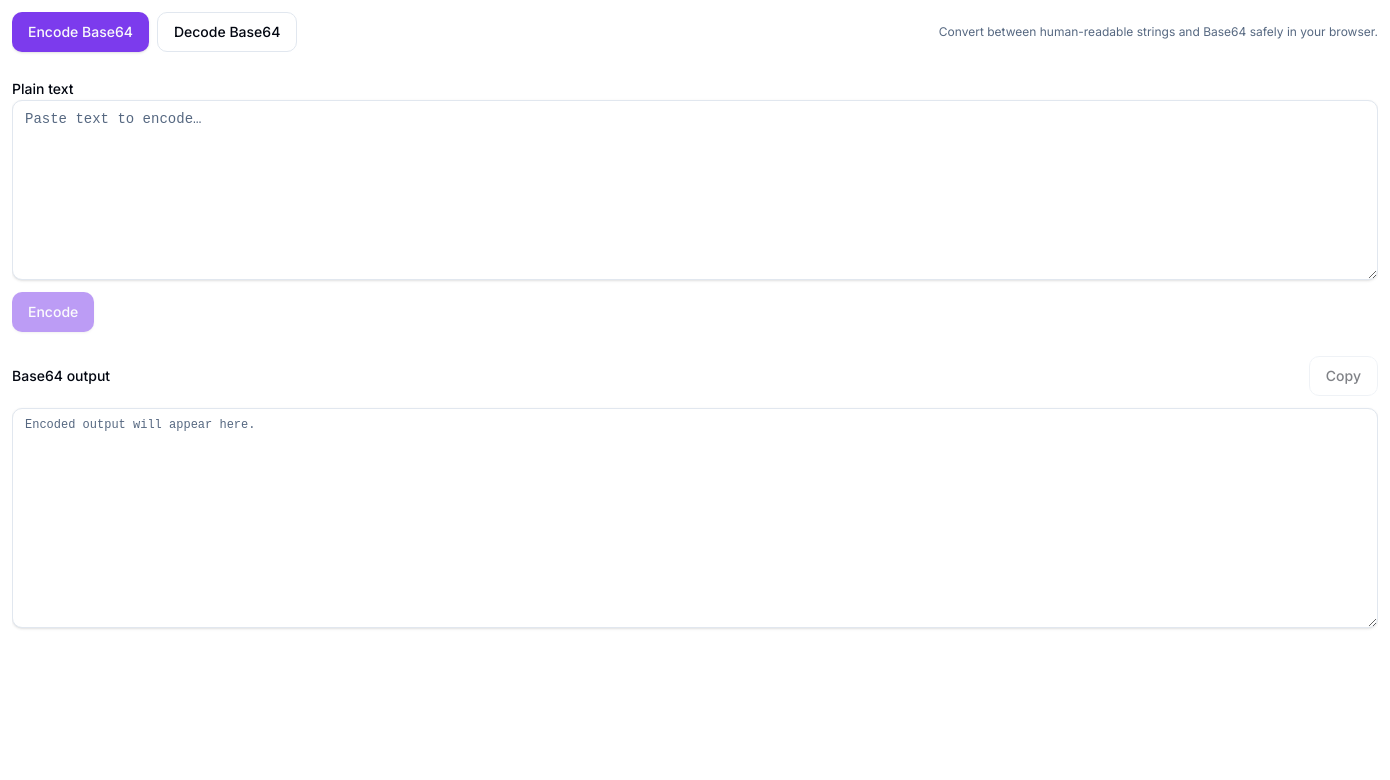
Test: Base64Utility › decodes base64 to plain text
Step 1. Click the button "Decode Base64" → (227, 32), box [157,12,297,52]
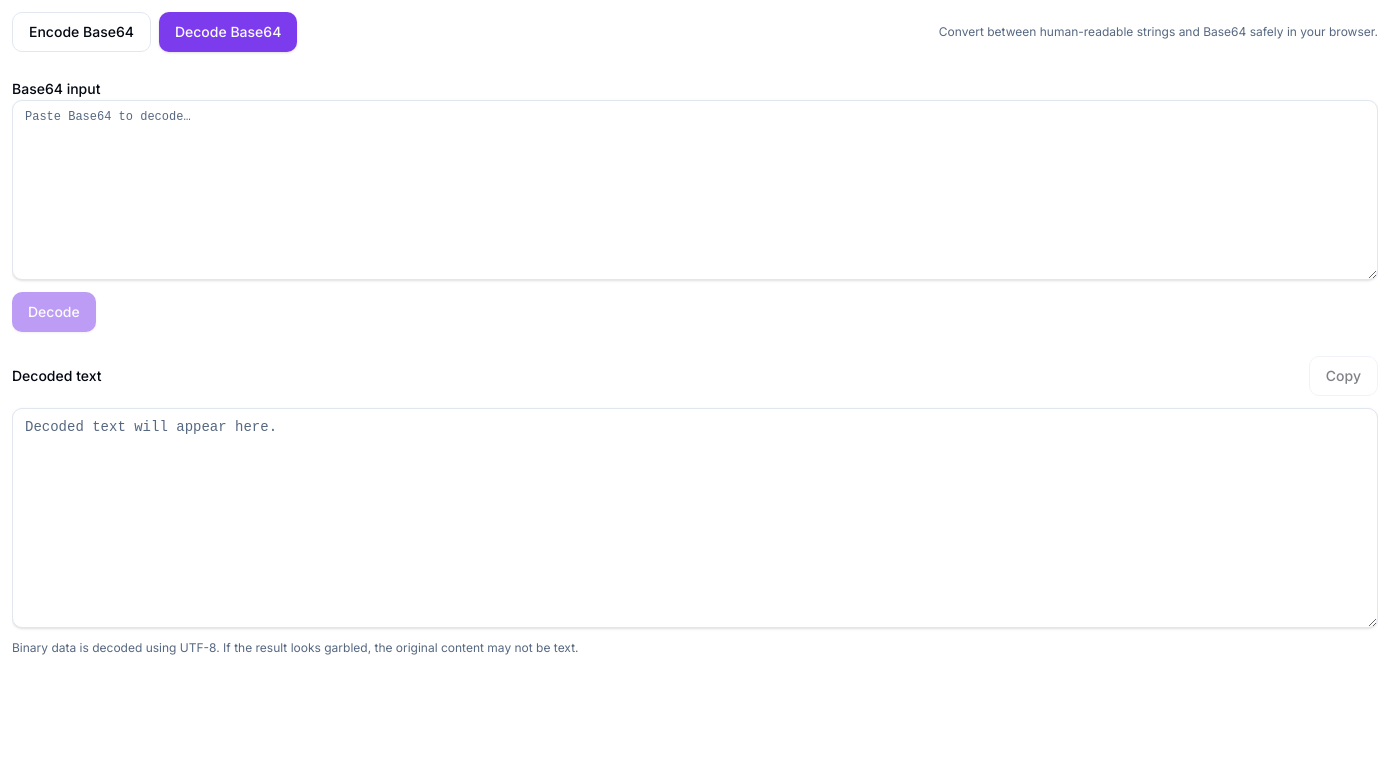
Step 2. Type "aGVsbG8=" into the text box labelled "Base64 input" → (695, 190), box [12,100,1378,280]
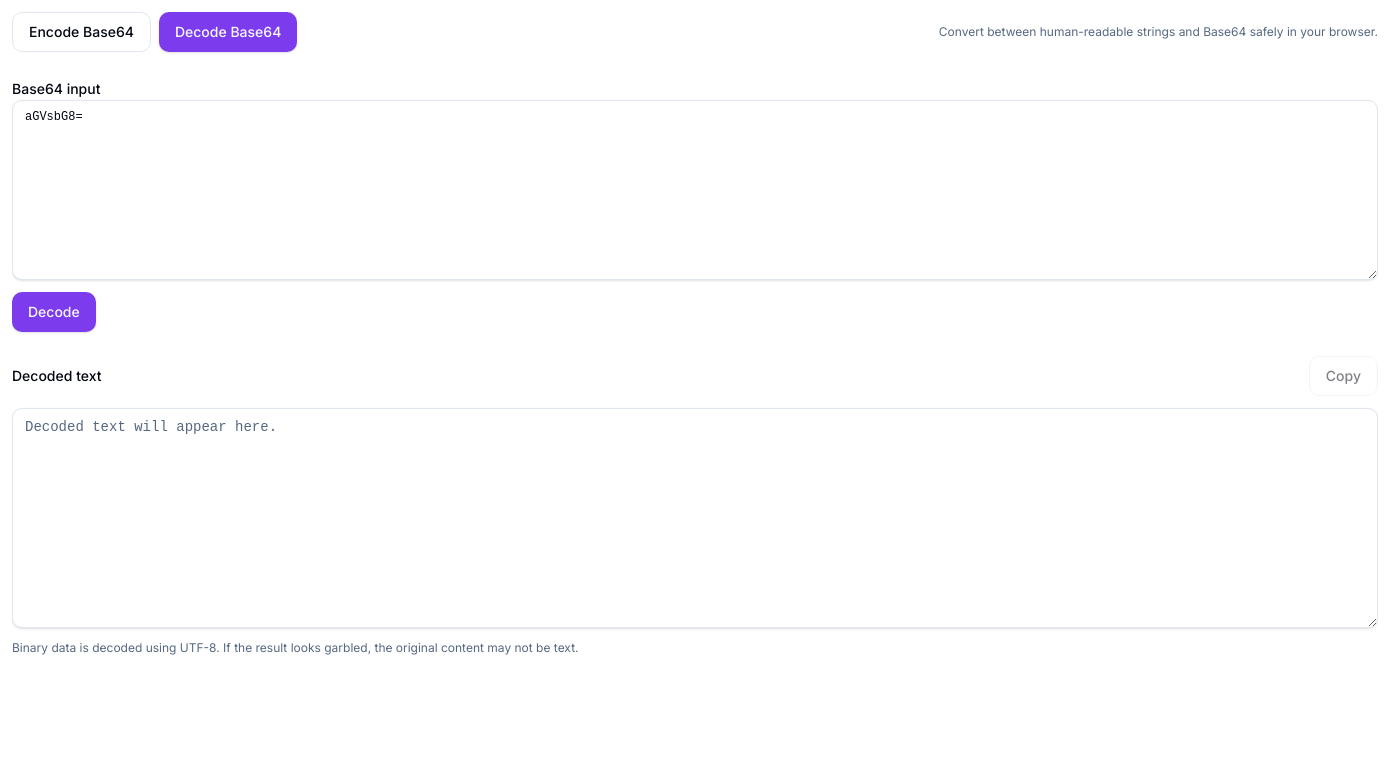
Step 3. Click the button "Decode" → (54, 312), box [12,292,96,332]
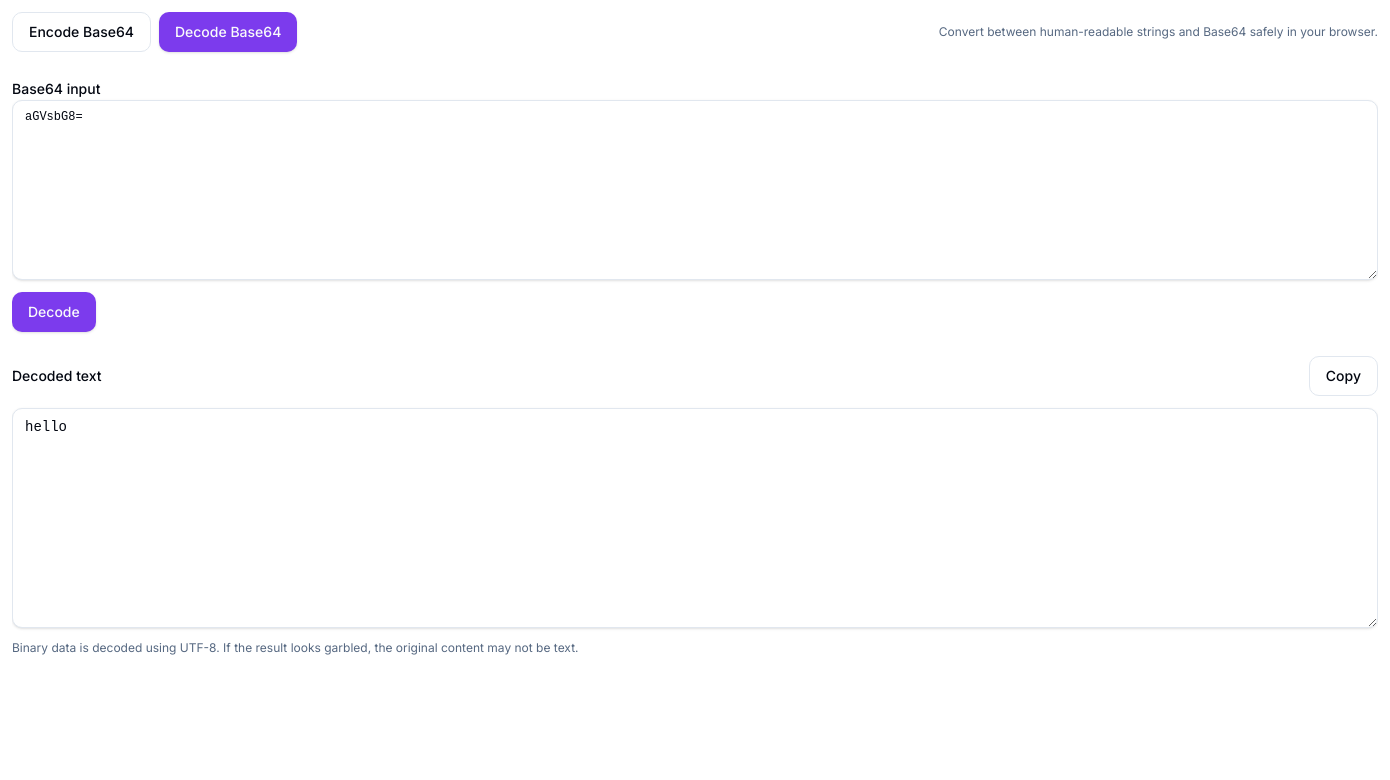
Check: the text box labelled "Decoded text" holds "hello", box [12,408,1378,628]
